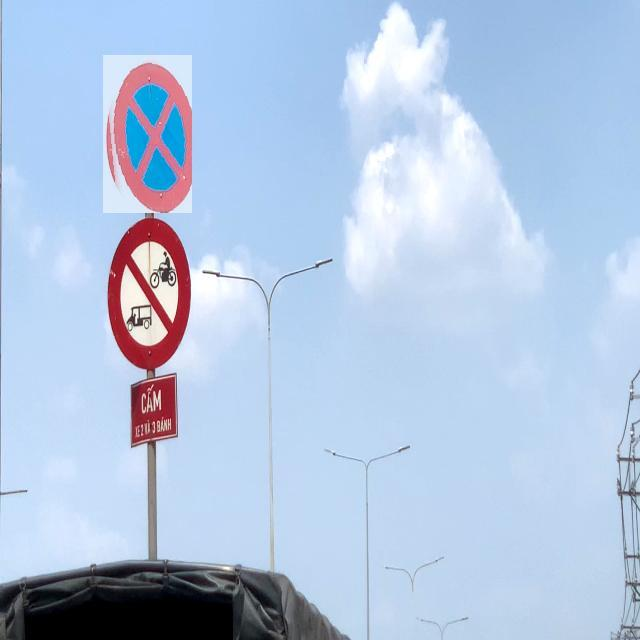P-130: (103, 55, 192, 213)
